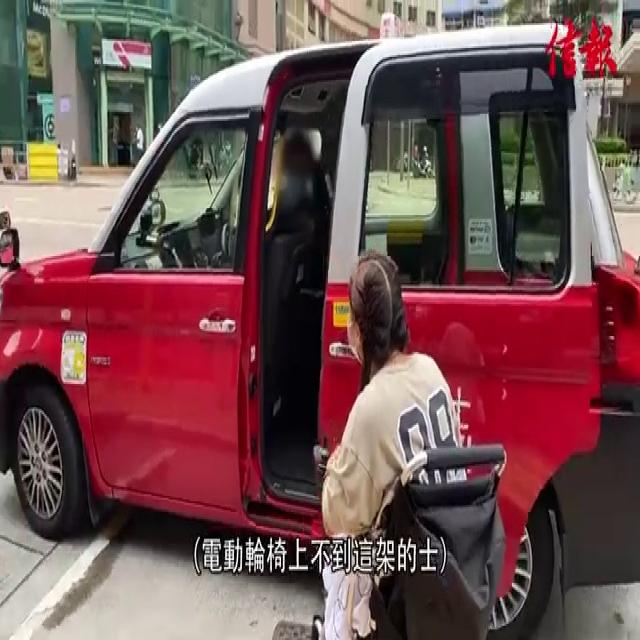wheelchairs: (297, 396, 527, 640)
